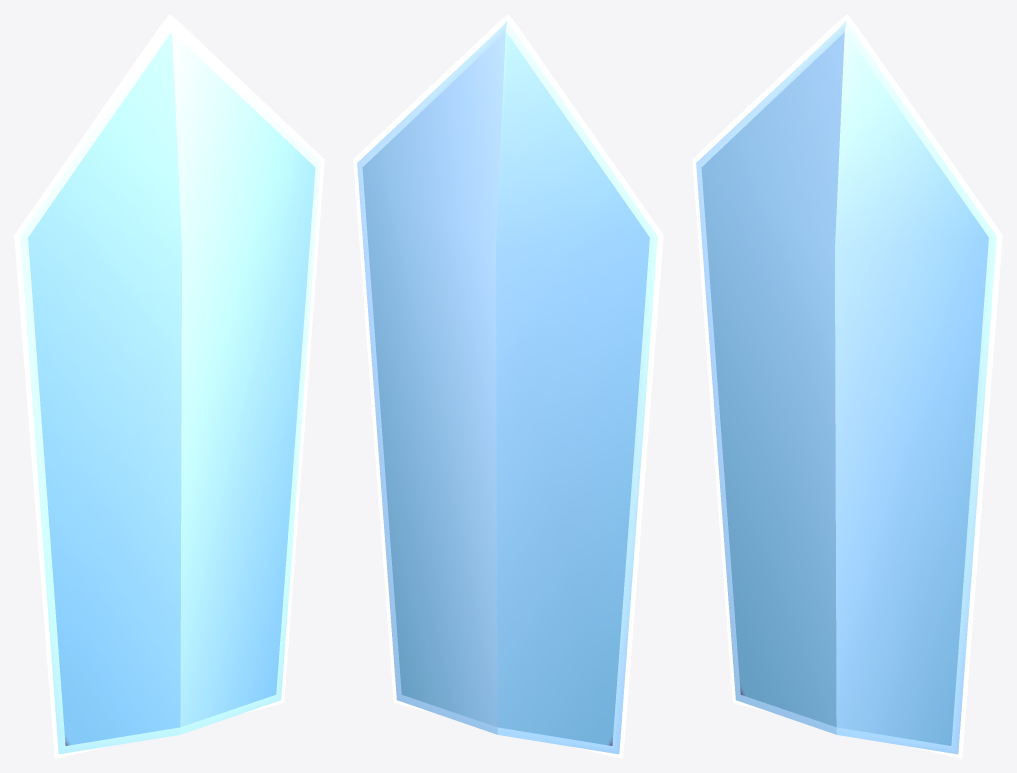
Rendered from steel_blade (21).glb.
The picture shows the model from 3 angles, left to right: view 1: azimuth 30°, elevation 25°; view 2: azimuth 150°, elevation 25°; view 3: azimuth 330°, elevation 25°; orthographic projection.
Visible parts, largest first — view 1: steel_blade_steel.042; view 2: steel_blade_steel.042; view 3: steel_blade_steel.042.
Part boxes in pixels (x1,y1,x2,y2): steel_blade_steel.042: (14,14,324,758); steel_blade_steel.042: (353,14,663,758); steel_blade_steel.042: (692,14,1002,758).
Bounding box in the file's own units: 5.17 × 11.43 × 0.7262.
Materials: 1 (1 with a texture image).
